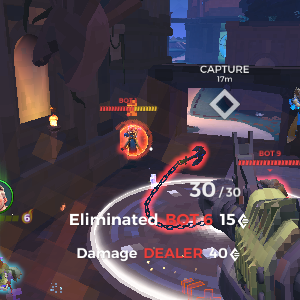model: (118, 121, 144, 162)
